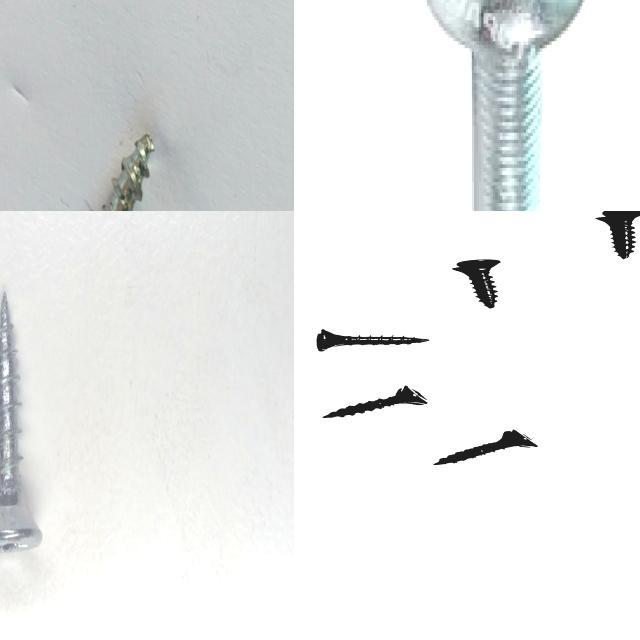Screw: (426, 0, 586, 211), (0, 292, 42, 552), (436, 430, 538, 466), (107, 133, 154, 211), (324, 386, 428, 418), (317, 329, 430, 351), (453, 259, 501, 308), (597, 211, 640, 258)
